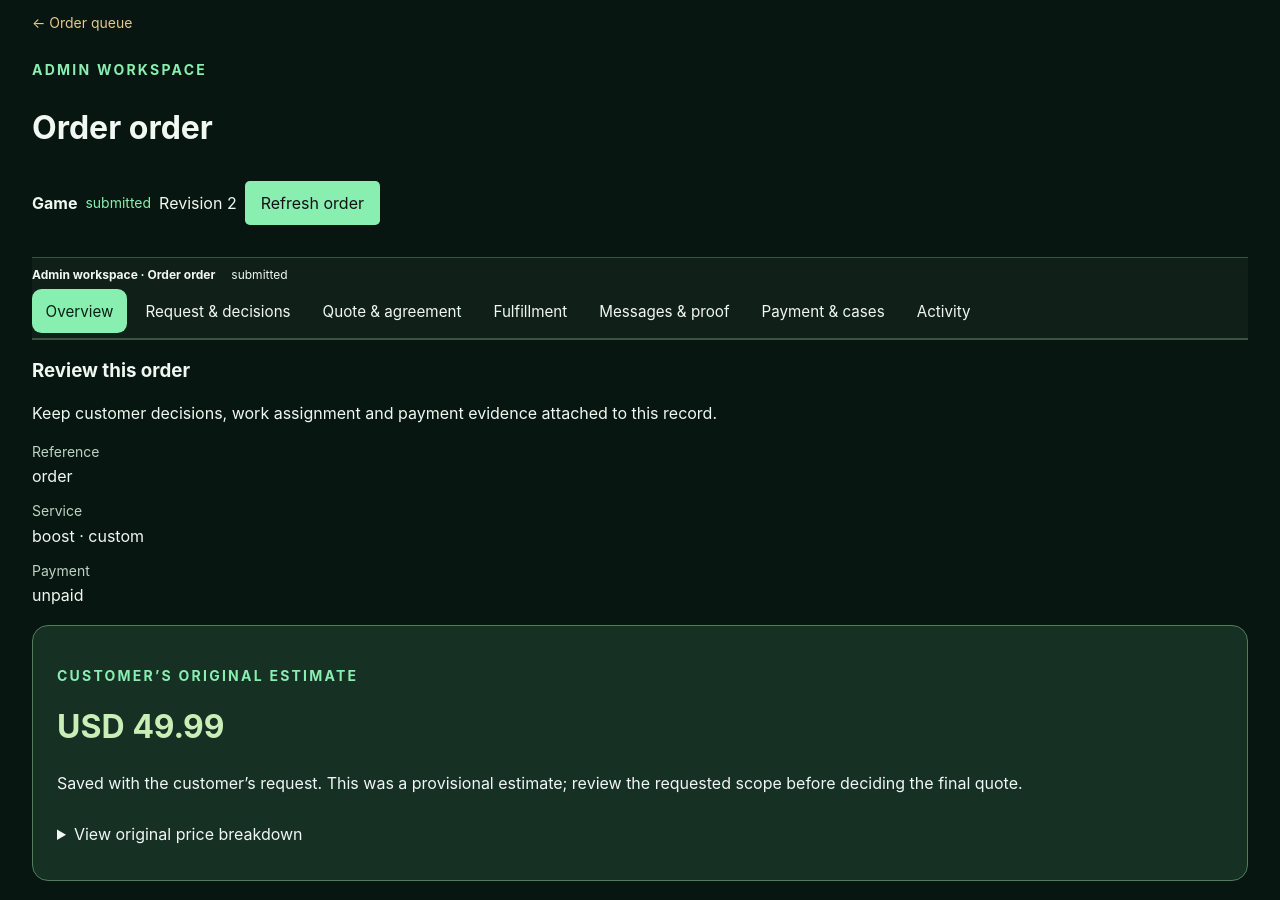
Scenario: shows the saved customer estimate in Overview and beside a newer accepted quote
This screenshot has width=1280, height=900.
expect the element "CUSTOMER’S ORIGINAL ESTIMATE" shows "USD 49.99": met, box [32, 625, 1248, 881]
expect the element "CUSTOMER’S ORIGINAL ESTIMATE" shows "provisional estimate": met, box [57, 773, 1023, 793]
Click the heading "View original price breakdown". click: (188, 834)
box: [74, 824, 302, 844]
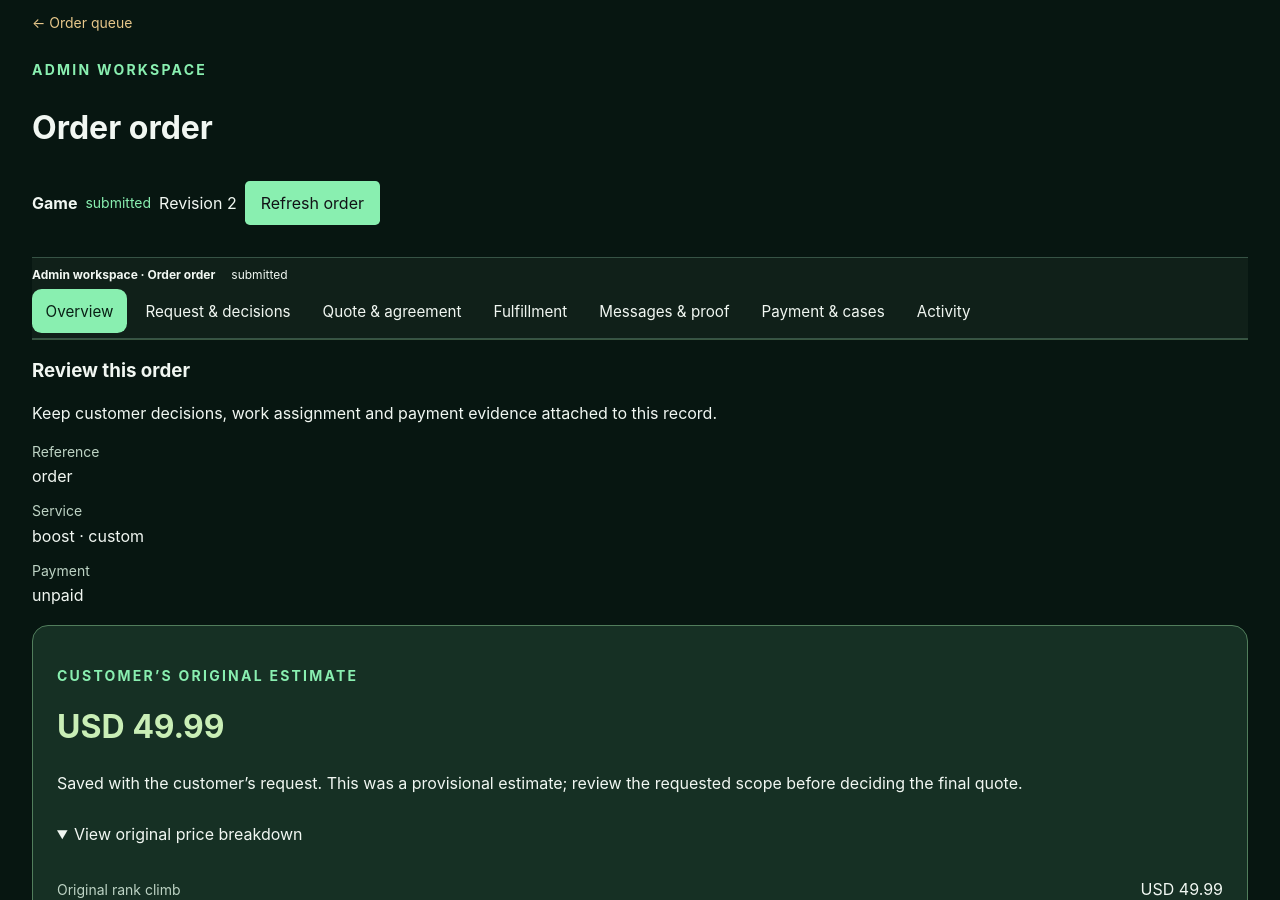
expect the text "Original rank climb" is shown: met, box [57, 881, 181, 898]
Click the link "Quote & agreement". click: (392, 311)
box: [323, 302, 461, 321]
(page scrolled)
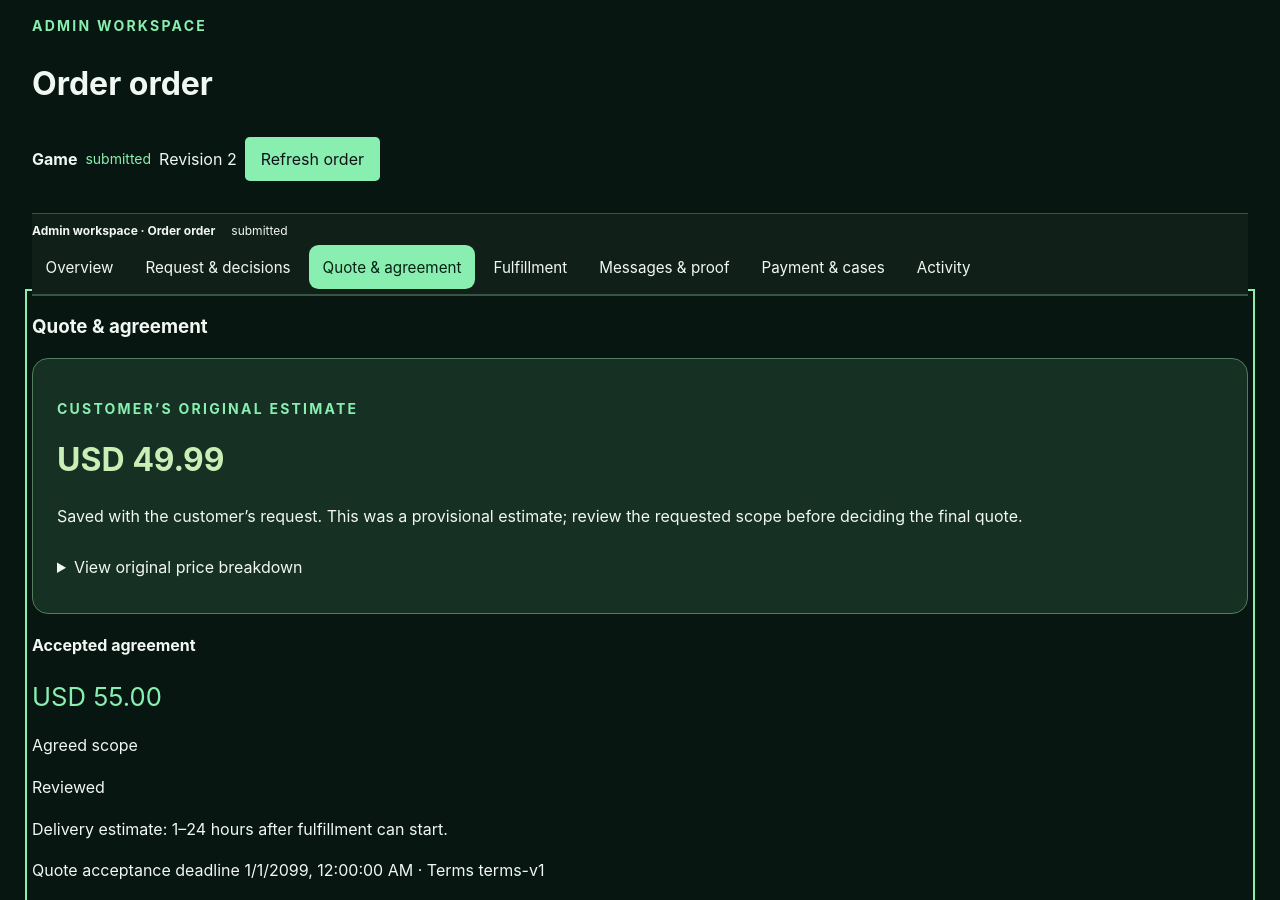
expect the element "CUSTOMER’S ORIGINAL ESTIMATE" shows "USD 49.99": met, box [32, 358, 1248, 614]
expect the element "Accepted agreement" shows "USD 55.00": met, box [32, 635, 544, 880]
